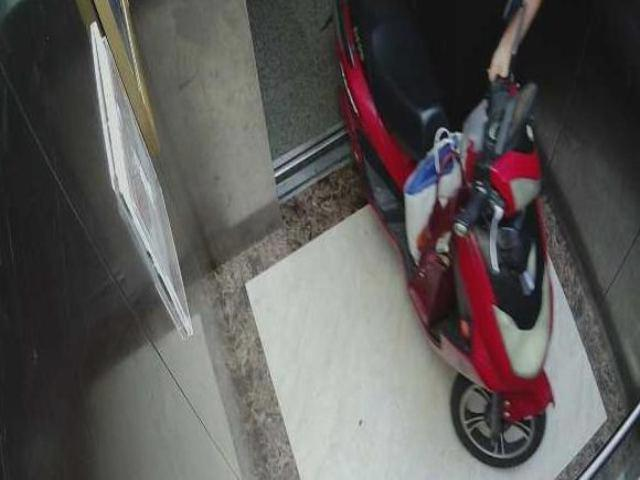emotor: (325, 11, 568, 466)
